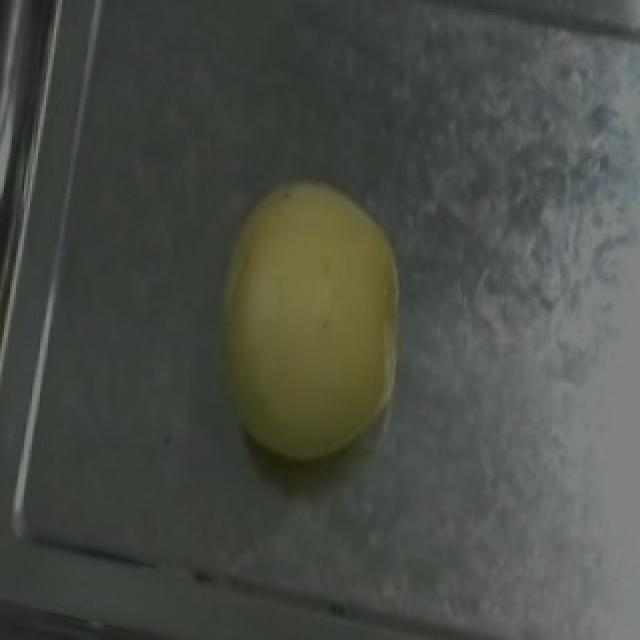Fruit: (186, 159, 436, 491)
